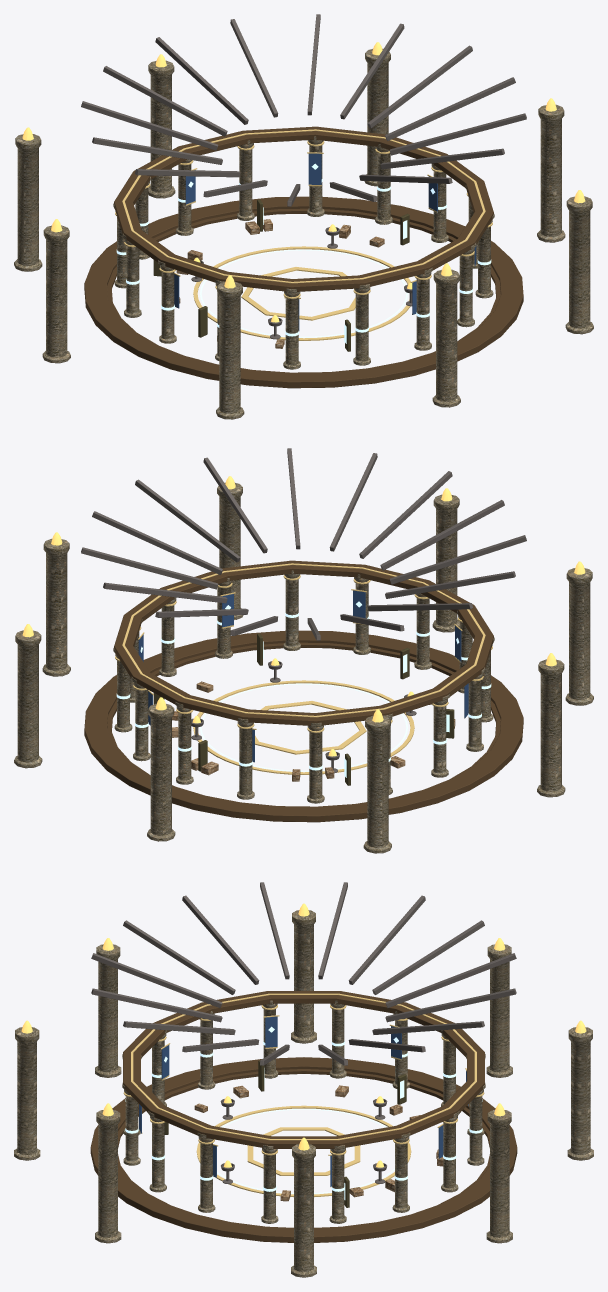
File: valhalla.glb
3 renders of one model, top to bottom at view 1: azimuth 30°, elevation 25°; view 2: azimuth 150°, elevation 25°; view 3: azimuth 270°, elevation 25°, orthographic. The views are drawn at different scales.
Visible parts, largest first — view 1: M_vh_stone, M_vh_blocks, M_vh_dark, M_rapture_gold, M_vh_rune, M_vh_banner, M_vh_fire; view 2: M_vh_stone, M_vh_blocks, M_vh_dark, M_rapture_gold, M_vh_rune, M_vh_banner, M_vh_fire; view 3: M_vh_stone, M_vh_blocks, M_vh_dark, M_rapture_gold, M_vh_banner, M_vh_rune, M_vh_fire.
Part boxes in pixels (bbox=[...]): M_vh_stone: bbox=[14, 48, 593, 419]; M_vh_blocks: bbox=[84, 126, 523, 388]; M_vh_dark: bbox=[81, 14, 526, 339]; M_rapture_gold: bbox=[115, 129, 492, 340]; M_vh_rune: bbox=[116, 163, 491, 343]; M_vh_banner: bbox=[174, 153, 476, 330]; M_vh_fire: bbox=[22, 42, 585, 322]; M_vh_stone: bbox=[14, 482, 593, 853]; M_vh_blocks: bbox=[84, 560, 523, 822]; M_vh_dark: bbox=[81, 448, 526, 773]; M_rapture_gold: bbox=[115, 563, 492, 774]; M_vh_rune: bbox=[116, 601, 491, 777]; M_vh_banner: bbox=[138, 590, 468, 762]; M_vh_fire: bbox=[22, 476, 585, 756]; M_vh_stone: bbox=[14, 910, 593, 1277]; M_vh_blocks: bbox=[90, 991, 517, 1242]; M_vh_dark: bbox=[91, 882, 516, 1183]; M_rapture_gold: bbox=[123, 993, 484, 1197]; M_vh_banner: bbox=[139, 1016, 468, 1186]; M_vh_rune: bbox=[125, 1026, 482, 1199]; M_vh_fire: bbox=[21, 903, 586, 1167].
Size of what is drawn, in the model's own units: 50.4 by 17.56 by 50.28.
7 materials, 2 textured.
